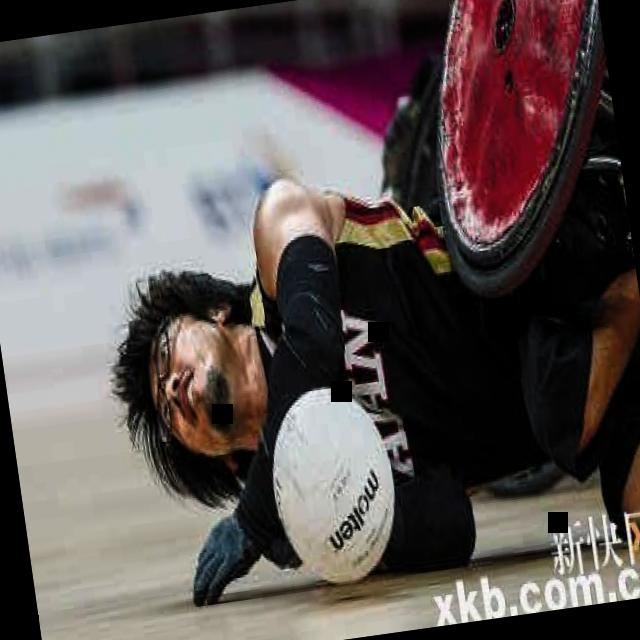Fall-Detected: (84, 91, 640, 634)
